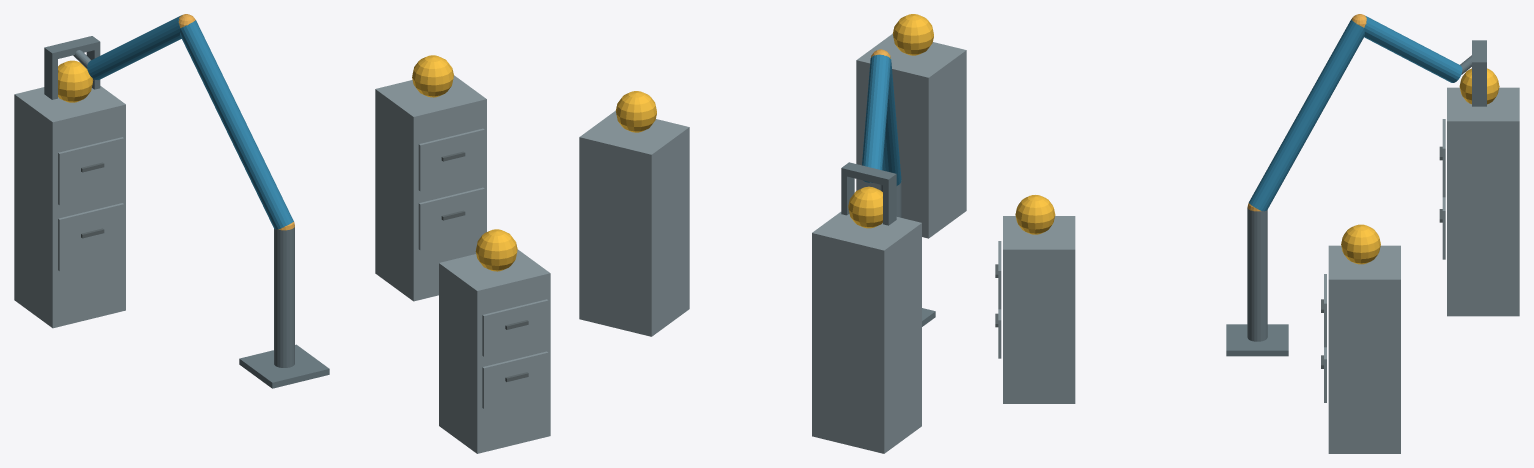
The picture shows the model from 3 angles, left to right: view 1: azimuth 30°, elevation 25°; view 2: azimuth 150°, elevation 25°; view 3: azimuth 270°, elevation 25°; orthographic projection. The views are drawn at different scales.
Parts seen in each view (by area): view 1: cabinet_3 body, cabinet_1 body, cabinet_2 body, moving link 1, cabinet_3 drawer front.001, cabinet_3 drawer front, cabinet_2 drawer front.001, cabinet_2 drawer front, fixed post, cabinet_1 drawer front, cabinet_1 drawer front.001, moving link 2 (+6 smaller); view 2: cabinet_3 body, cabinet_2 body, cabinet_1 body, moving link 2, released ball_1, released ball_2, ball ball_3, moving link 1, gripper bridge, gripper finger -1, gripper finger 1; view 3: cabinet_3 body, cabinet_2 body, cabinet_1 body, moving link 1, fixed post, moving link 2, pedestal, released ball_2, released ball_1, ball ball_3, gripper finger 1.
Boxes of the visible parts, box(x1,y1,x2,y2) form: cabinet_3 body: box(14, 86, 125, 328); cabinet_1 body: box(439, 249, 550, 453); cabinet_2 body: box(375, 75, 486, 301); moving link 1: box(180, 20, 293, 229); cabinet_3 drawer front.001: box(58, 137, 123, 205); cabinet_3 drawer front: box(58, 203, 123, 271); cabinet_2 drawer front.001: box(418, 128, 484, 191); cabinet_2 drawer front: box(418, 187, 484, 250); fixed post: box(274, 226, 294, 367); cabinet_1 drawer front: box(482, 351, 548, 408); cabinet_1 drawer front.001: box(482, 299, 548, 356); moving link 2: box(87, 15, 181, 79); cabinet_3 body: box(812, 212, 921, 453); cabinet_2 body: box(579, 111, 689, 336); cabinet_1 body: box(856, 34, 966, 238); moving link 2: box(862, 54, 891, 182); released ball_1: box(892, 14, 933, 55); released ball_2: box(615, 91, 656, 132); ball ball_3: box(848, 186, 882, 228); moving link 1: box(882, 57, 901, 185); gripper bridge: box(841, 162, 896, 186); gripper finger -1: box(883, 181, 896, 225); gripper finger 1: box(841, 175, 854, 215); cabinet_3 body: box(1447, 87, 1519, 316); cabinet_2 body: box(1328, 245, 1400, 453); cabinet_1 body: box(1003, 216, 1075, 403); moving link 1: box(1249, 19, 1364, 211); fixed post: box(1247, 207, 1267, 341); moving link 2: box(1364, 16, 1462, 82); pedestal: box(1226, 324, 1288, 356); released ball_2: box(1341, 224, 1380, 264); released ball_1: box(1015, 195, 1055, 234); ball ball_3: box(1459, 68, 1499, 104); gripper finger 1: box(1472, 69, 1486, 106).
Size of the model in its own units: 1.62 by 1.36 by 2.1.
